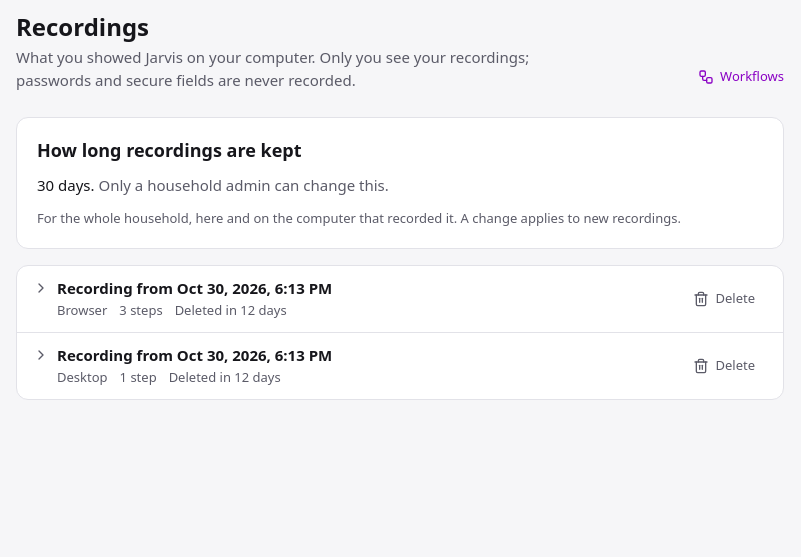
Test: RecordingsPage › lists the recordings with mode, steps and expiry, and views one
Expected: the number of list items with test id "recording" is 2, [17, 266, 783, 333]; [17, 333, 783, 398]
Expected: the list item with test id "recording" shows "Browser", [33, 278, 670, 320]
Click the 3rd button at point(195, 355), box [33, 345, 670, 386]
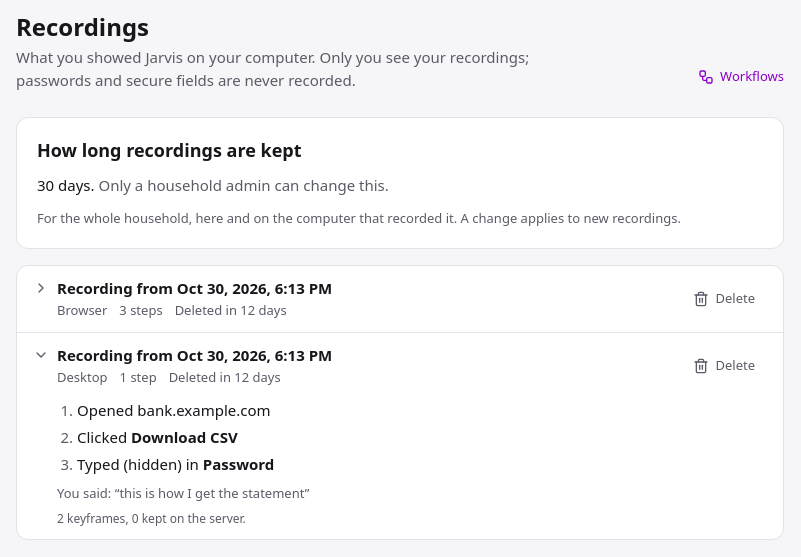
Result: the text "Opened bank.example.com" is shown at [77, 400, 271, 420]
Result: the text "Typed (hidden) in" is shown at [77, 454, 203, 474]
Result: the text "this is how I get the statement" is shown at [115, 484, 309, 502]
